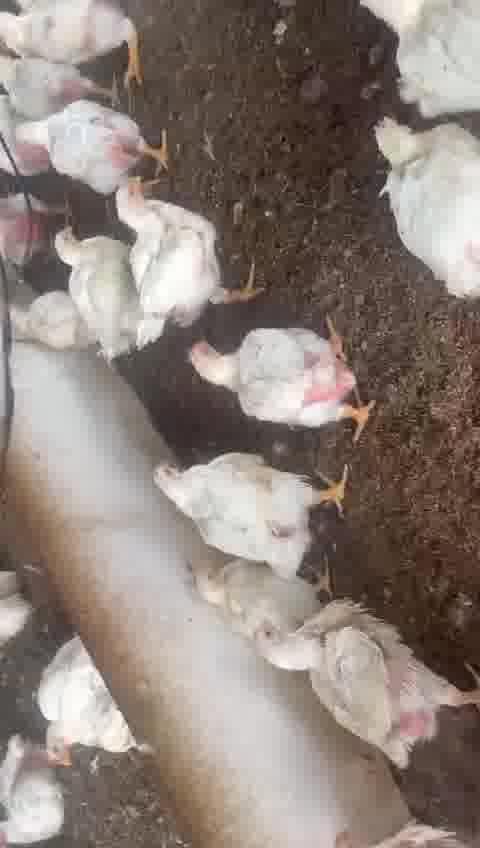AbNormal: (182, 548, 337, 632), (305, 806, 480, 848)
Normal: (248, 594, 480, 778), (359, 117, 480, 332), (151, 450, 361, 568), (117, 169, 261, 338), (187, 333, 384, 435), (39, 215, 156, 350), (15, 100, 184, 182), (0, 0, 153, 76)
